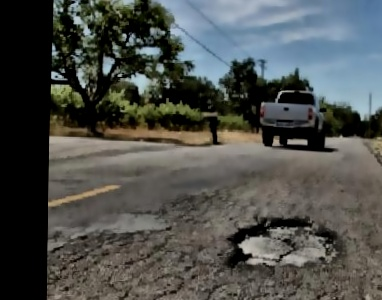pothole: (227, 213, 342, 273)
